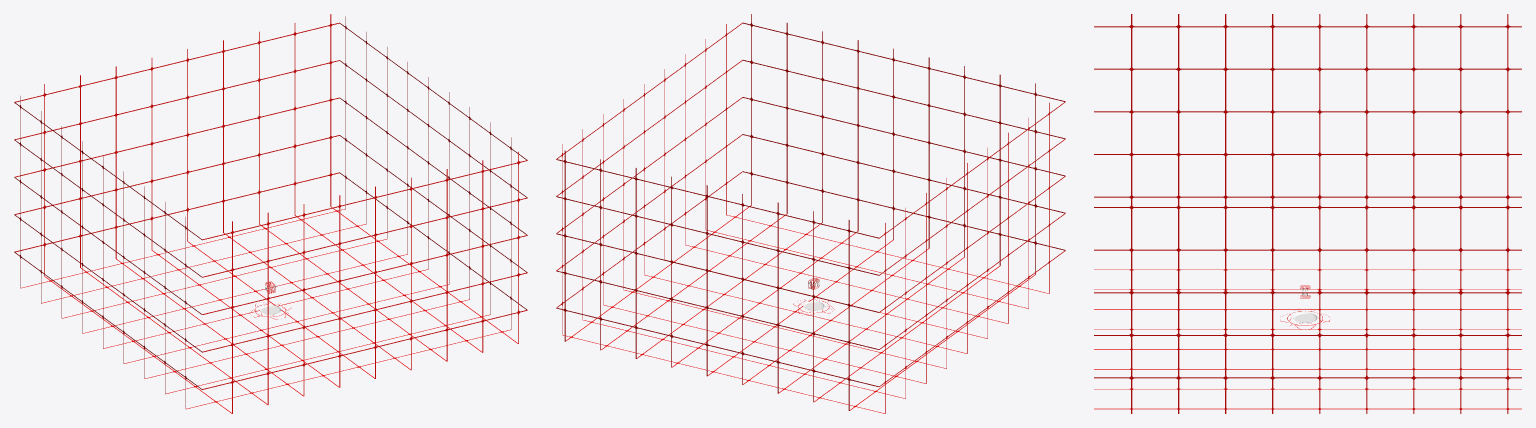
The model's file is mix-nolight.glb.
The picture shows the model from 3 angles, left to right: view 1: azimuth 30°, elevation 25°; view 2: azimuth 150°, elevation 25°; view 3: azimuth 270°, elevation 25°; orthographic projection. The views are drawn at different scales.
Visible parts, largest first — view 1: 物件_53, 物件_49, 物件_54, 物件_52, 物件_51; view 2: 物件_53, 物件_54, 物件_49, 物件_52, 物件_51; view 3: 物件_51, 物件_52, 物件_53.
Part boxes in pixels (x1,y1,x2,y2): 物件_53: (21,206,518,413); 物件_49: (202,151,527,413); 物件_54: (15,14,339,276); 物件_52: (14,96,202,408); 物件_51: (339,16,527,329); 物件_53: (562,205,1048,413); 物件_54: (556,150,879,410); 物件_49: (742,14,1065,274); 物件_52: (879,101,1065,413); 物件_51: (556,23,742,334); 物件_51: (1094,194,1521,413); 物件_52: (1094,14,1521,199); 物件_53: (1094,269,1521,409).
Size of the model in its own units: 2.43 by 1.37 by 2.43.
